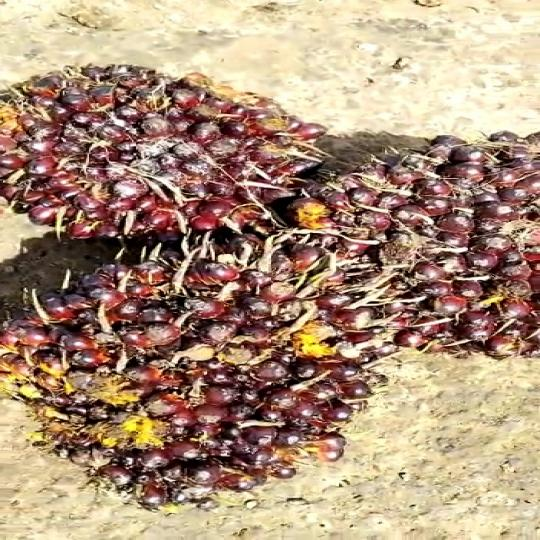kurang masak: (25, 240, 356, 498), (270, 120, 540, 356), (0, 60, 282, 231)
